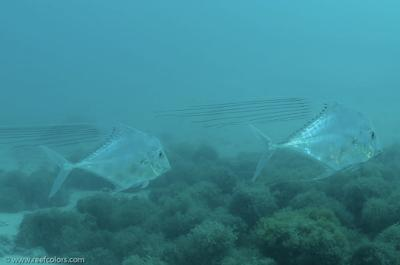Carangidae -Jacks-: (181, 89, 393, 183), (0, 115, 177, 199)
